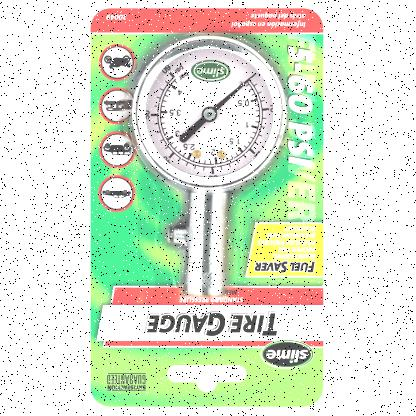needle: (213, 75, 254, 112)
